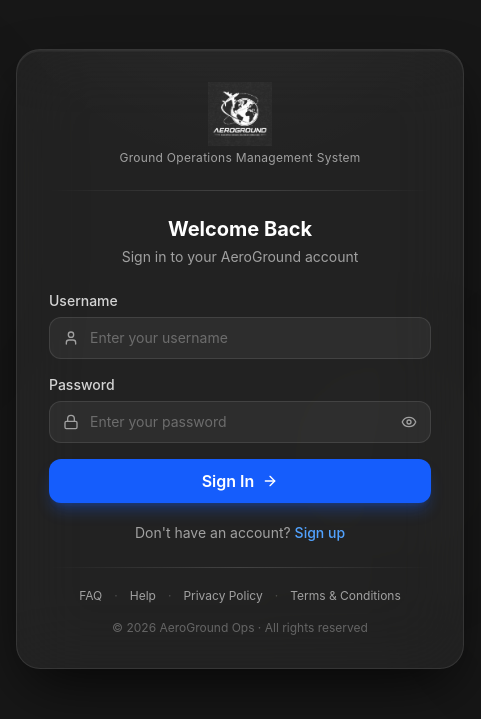
Test: Login › shows a validation error when fields are empty
Click the button "Sign In" at (240, 481), box [49,459,431,503]
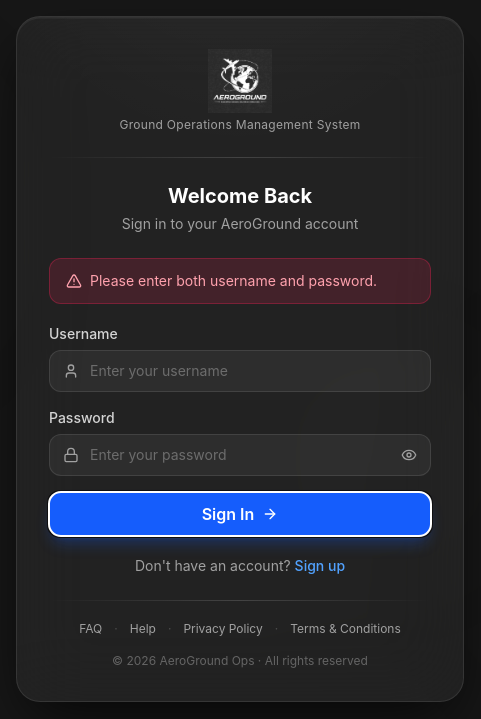
Now the text "Please enter both username and password." is shown, box [49,258,431,304]
